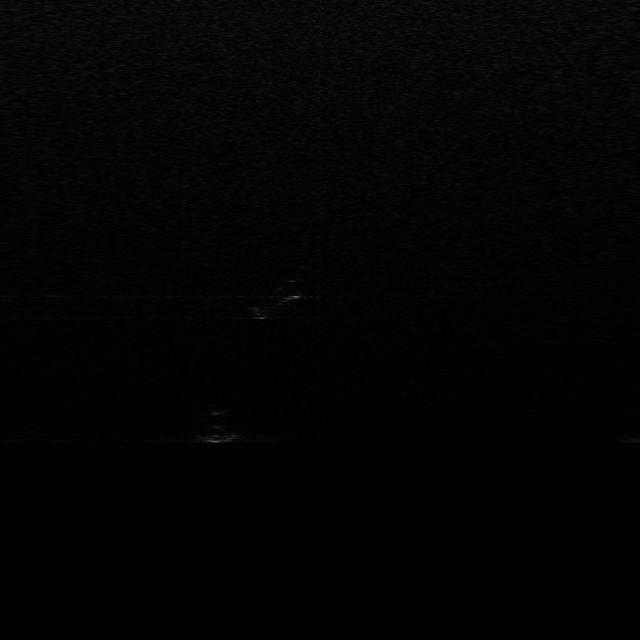ball: (190, 413, 240, 442)
tyre: (249, 281, 303, 320)
